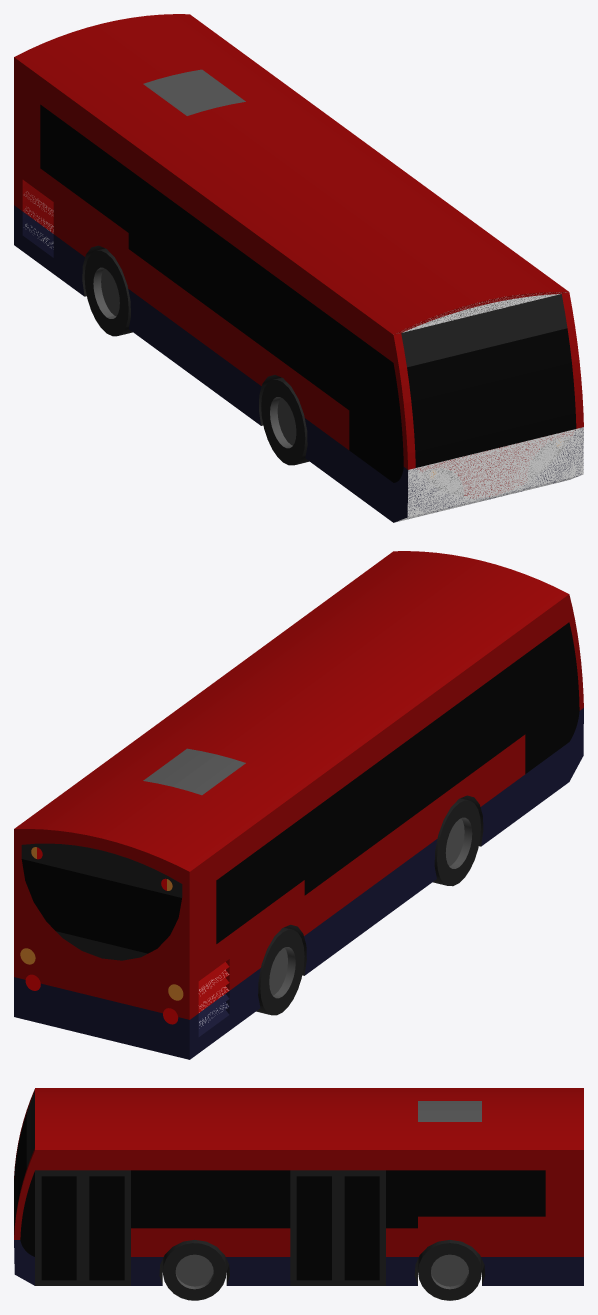
Rendered from enviro2door.dae.
The picture shows the model from 3 angles, top to bottom: view 1: azimuth 30°, elevation 25°; view 2: azimuth 150°, elevation 25°; view 3: azimuth 270°, elevation 25°; orthographic projection. The views are drawn at different scales.
Visible parts, largest first — view 1: SketchUp (×12); view 2: SketchUp (×12); view 3: SketchUp (×20).
Boxes of the visible parts, x1,y1,x2,y2 form: SketchUp (×12): (14,14,583,522); SketchUp (×12): (14,551,583,1059); SketchUp (×20): (14,1088,583,1300).
Bounding box in the file's own units: 9.06 × 35.16 × 10.85.
